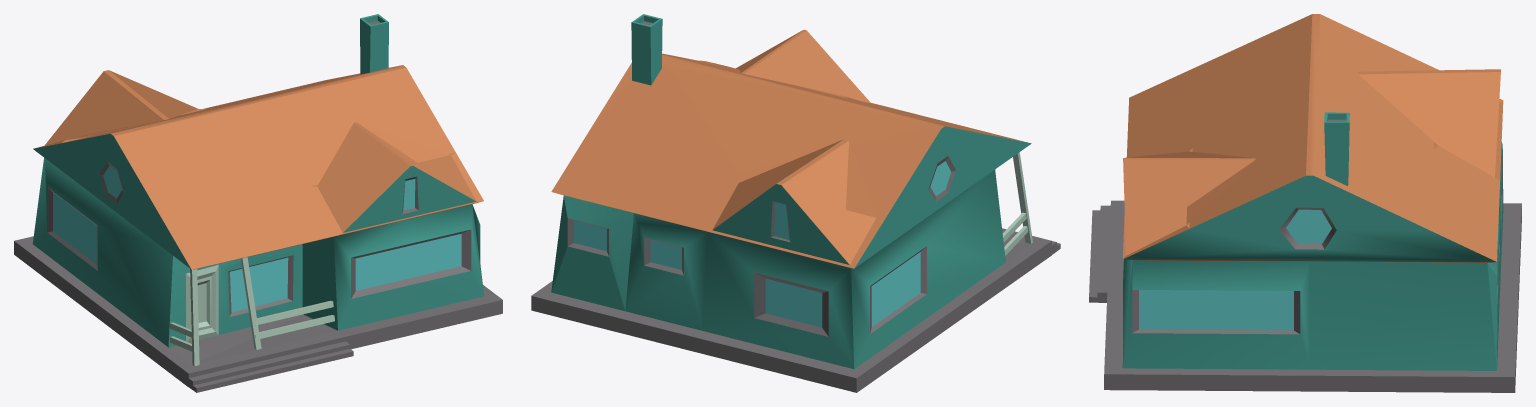
File: house1.fbx
The picture shows the model from 3 angles, left to right: view 1: azimuth 30°, elevation 25°; view 2: azimuth 150°, elevation 25°; view 3: azimuth 270°, elevation 25°; orthographic projection. The views are drawn at different scales.
Parts seen in each view (by area): view 1: pCube8; view 2: pCube8; view 3: pCube8.
Part boxes in pixels (box(x1,y1,x2,y2)): pCube8: box(14, 14, 502, 392); pCube8: box(531, 14, 1060, 392); pCube8: box(1089, 14, 1521, 392).
Size of the model in its own units: 170 by 116 by 177.
